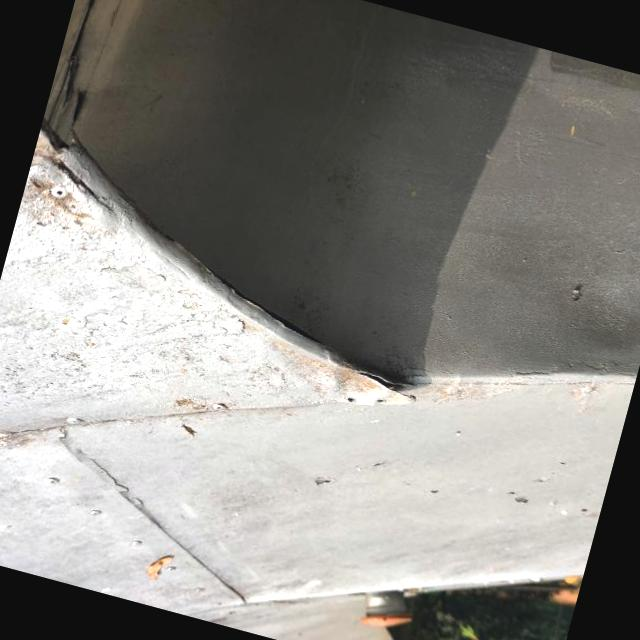crack: (19, 144, 138, 236), (341, 352, 428, 410)
